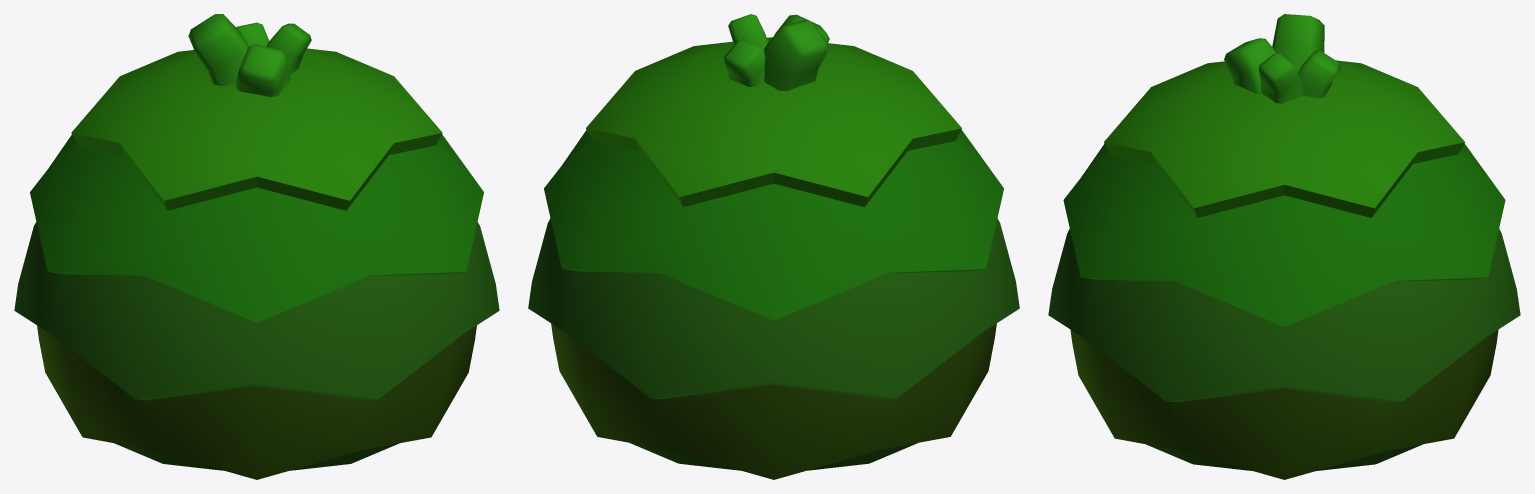
The model's file is Grass02.fbx.
The picture shows the model from 3 angles, left to right: view 1: azimuth 30°, elevation 25°; view 2: azimuth 150°, elevation 25°; view 3: azimuth 270°, elevation 25°; orthographic projection. The views are drawn at different scales.
Parts seen in each view (by area): view 1: LOD0; view 2: LOD0; view 3: LOD0.
Boxes of the visible parts, <box> form: LOD0: <box>14,14,499,479</box>; LOD0: <box>528,14,1019,479</box>; LOD0: <box>1048,14,1520,479</box>.
Size of what is drawn, in the model's own units: 172 by 173 by 149.
